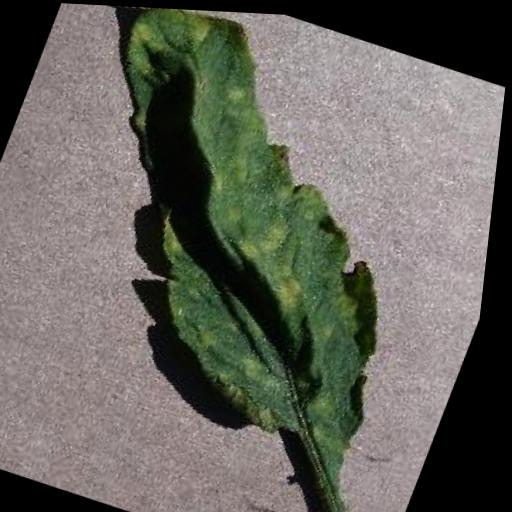Leaf Mold: (2, 2, 491, 459)
